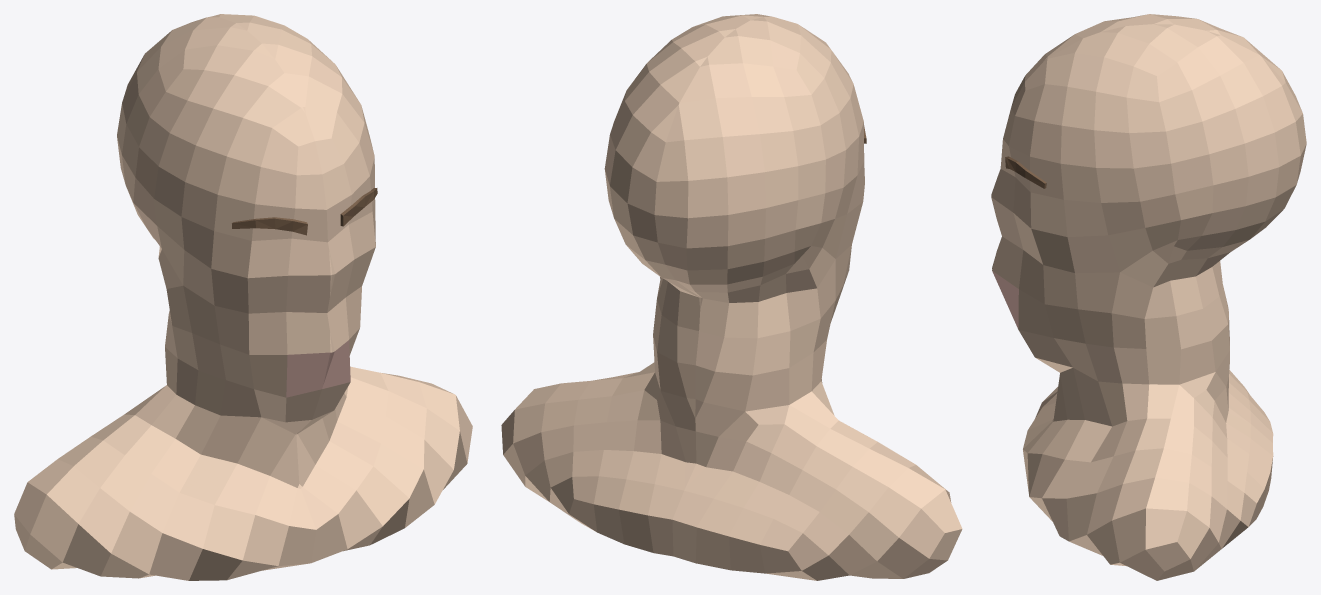
File: quadriflow.glb
3 views of the same model, side by side, from view 1: azimuth 30°, elevation 25°; view 2: azimuth 150°, elevation 25°; view 3: azimuth 270°, elevation 25° (orthographic). The views are drawn at different scales.
Visible parts, largest first — view 1: Head_Main, Eyebrow_R; view 2: Head_Main; view 3: Head_Main, Eyebrow_L.
Part boxes in pixels (x1,y1,x2,y2): Head_Main: (14,14,472,580); Eyebrow_R: (232,217,307,235); Head_Main: (501,14,962,580); Head_Main: (991,14,1306,580); Eyebrow_L: (1005,156,1046,188).
Bounding box in the file's own units: 0.3184 × 0.3413 × 0.2074.
